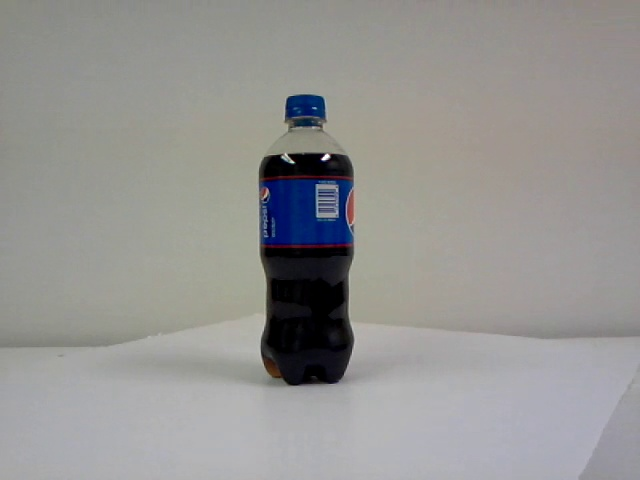botolplastik: (260, 95, 353, 384)
